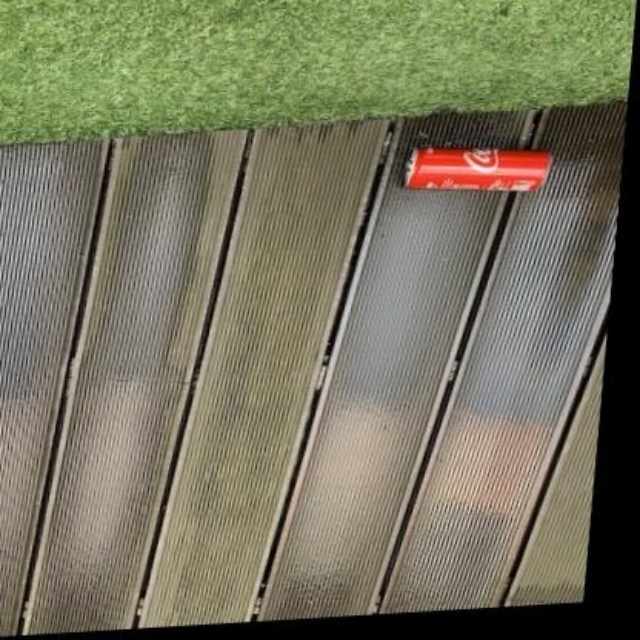trash: (405, 148, 549, 189)
